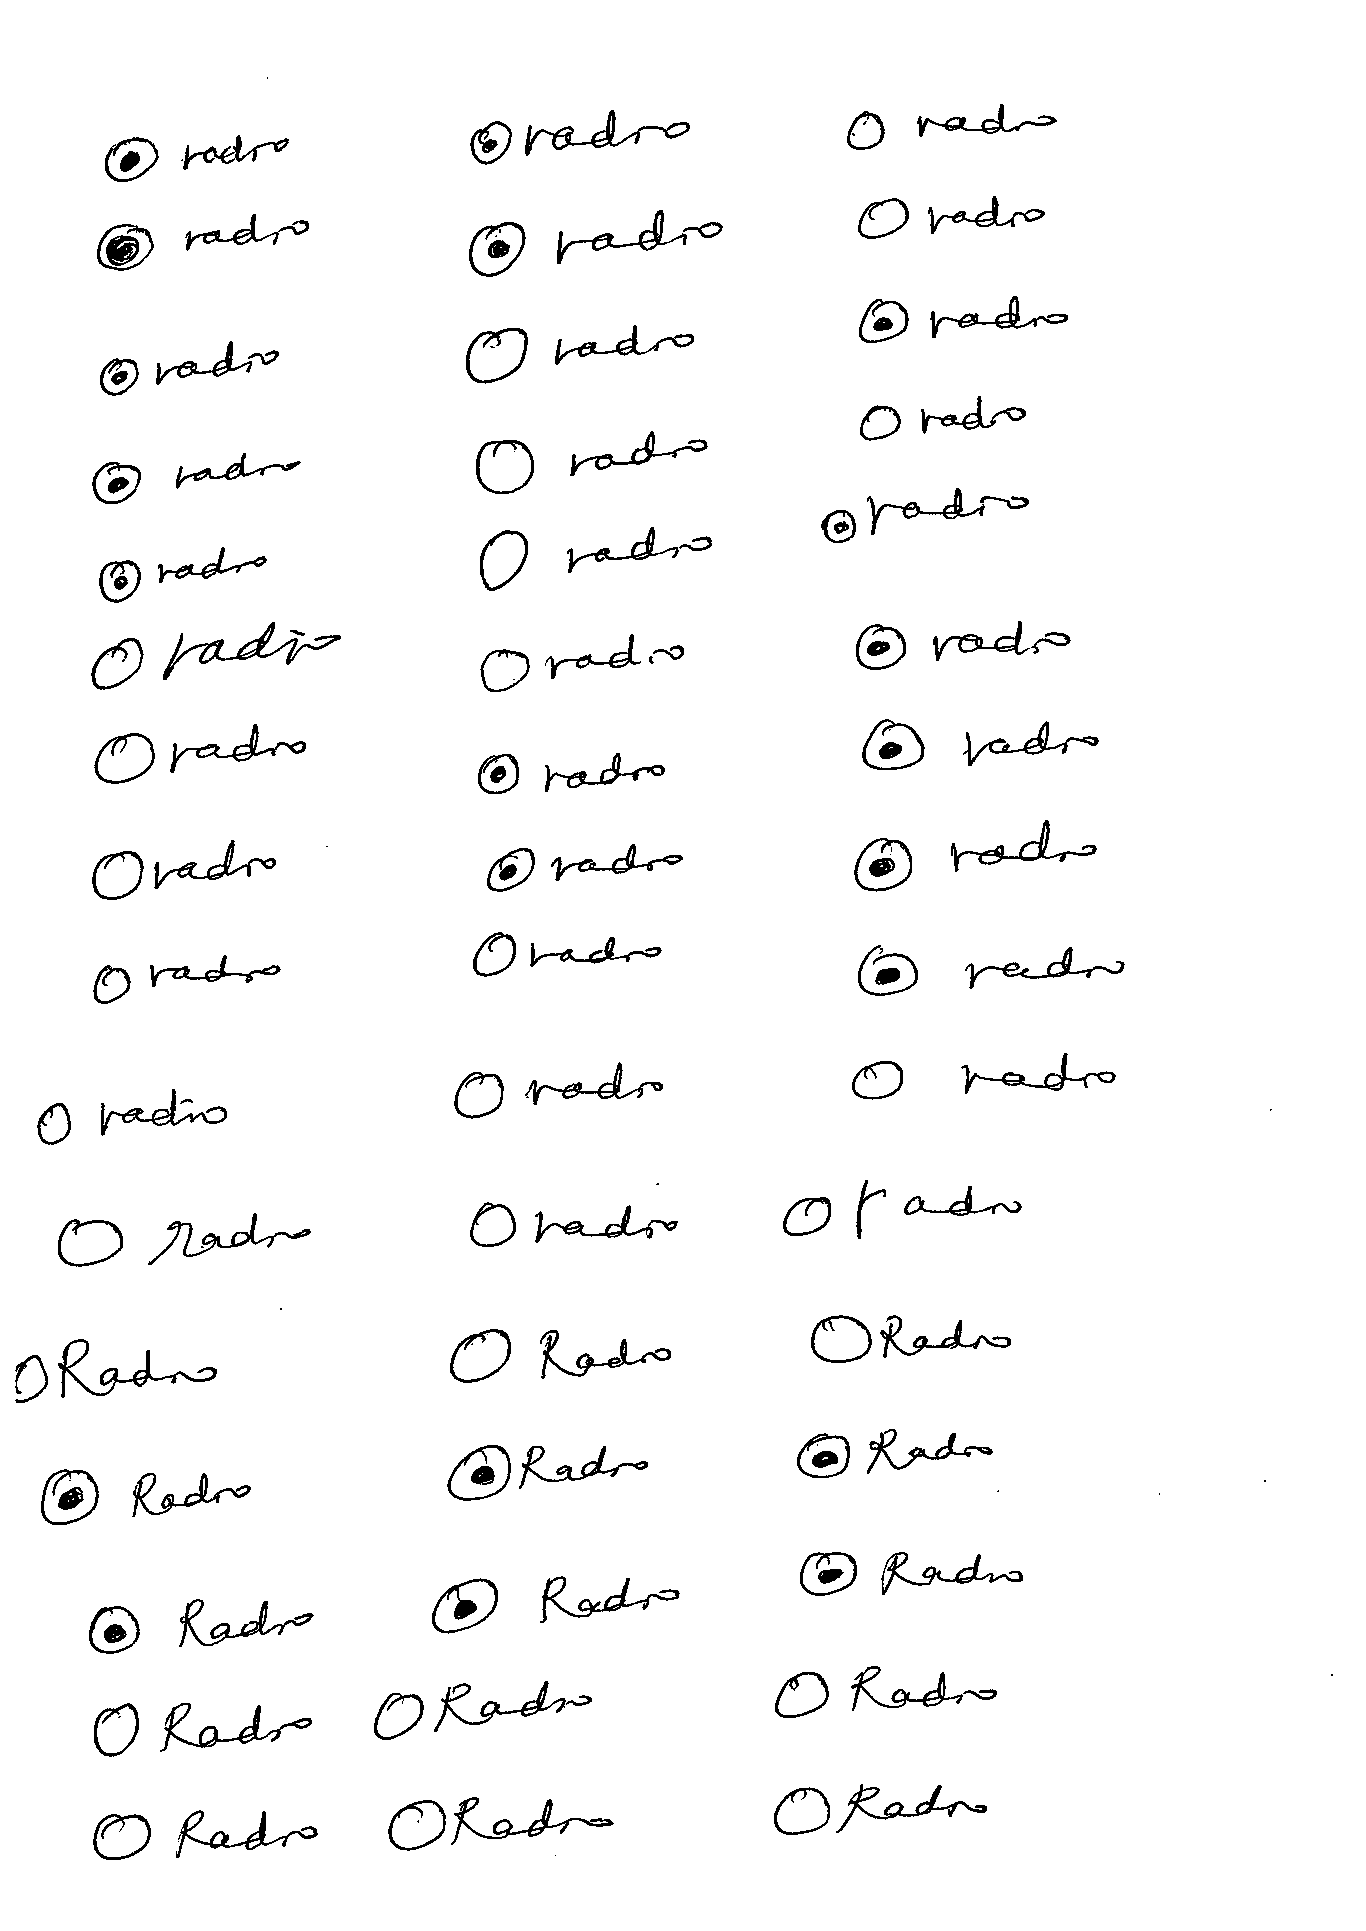Radio Button: (852, 816, 1107, 892), (463, 207, 721, 279), (92, 621, 344, 693), (429, 1567, 682, 1640), (55, 1212, 312, 1277), (854, 940, 1122, 1001), (89, 1801, 319, 1869), (92, 719, 312, 790), (476, 430, 710, 497), (856, 711, 1106, 773), (439, 1434, 661, 1504), (386, 1789, 616, 1856), (819, 476, 1033, 547), (87, 444, 307, 512), (446, 1326, 682, 1388), (463, 322, 696, 384), (92, 1697, 310, 1761), (87, 1594, 316, 1655), (92, 208, 307, 272), (772, 1779, 996, 1839), (38, 1467, 256, 1529), (466, 106, 692, 166), (478, 636, 689, 696), (92, 838, 279, 906), (792, 1424, 999, 1484), (794, 1547, 1027, 1598), (483, 838, 686, 896), (101, 129, 299, 186), (92, 544, 271, 608), (849, 622, 1070, 671), (96, 342, 282, 399), (857, 296, 1069, 346), (461, 1201, 684, 1246), (807, 1316, 1013, 1365), (476, 753, 667, 798), (859, 399, 1033, 447)
